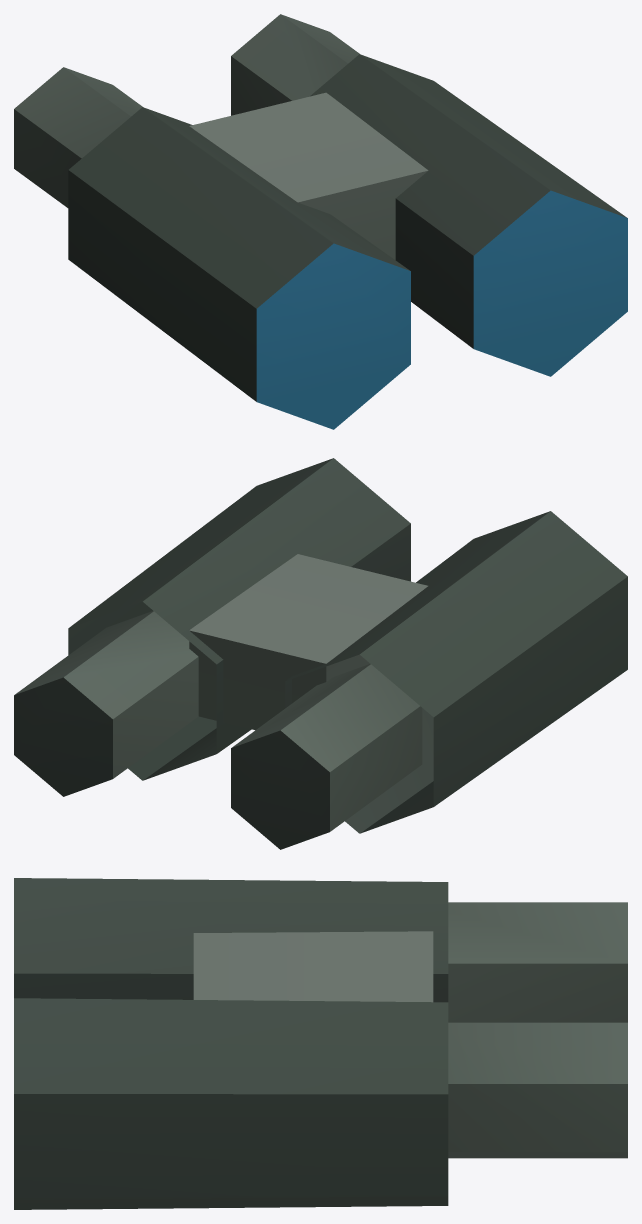
File: custom-binoculos.glb
3 views of the same model, one above another, from view 1: azimuth 30°, elevation 25°; view 2: azimuth 150°, elevation 25°; view 3: azimuth 270°, elevation 25° (orthographic). The views are drawn at different scales.
Parts seen in each view (by area): view 1: binoculos; view 2: binoculos; view 3: binoculos.
Boxes of the visible parts, <box> form: binoculos: <box>14,14,627,429</box>; binoculos: <box>14,458,627,849</box>; binoculos: <box>14,878,627,1209</box>.
Size of the model in its own units: 0.3251 by 0.156 by 0.41.
